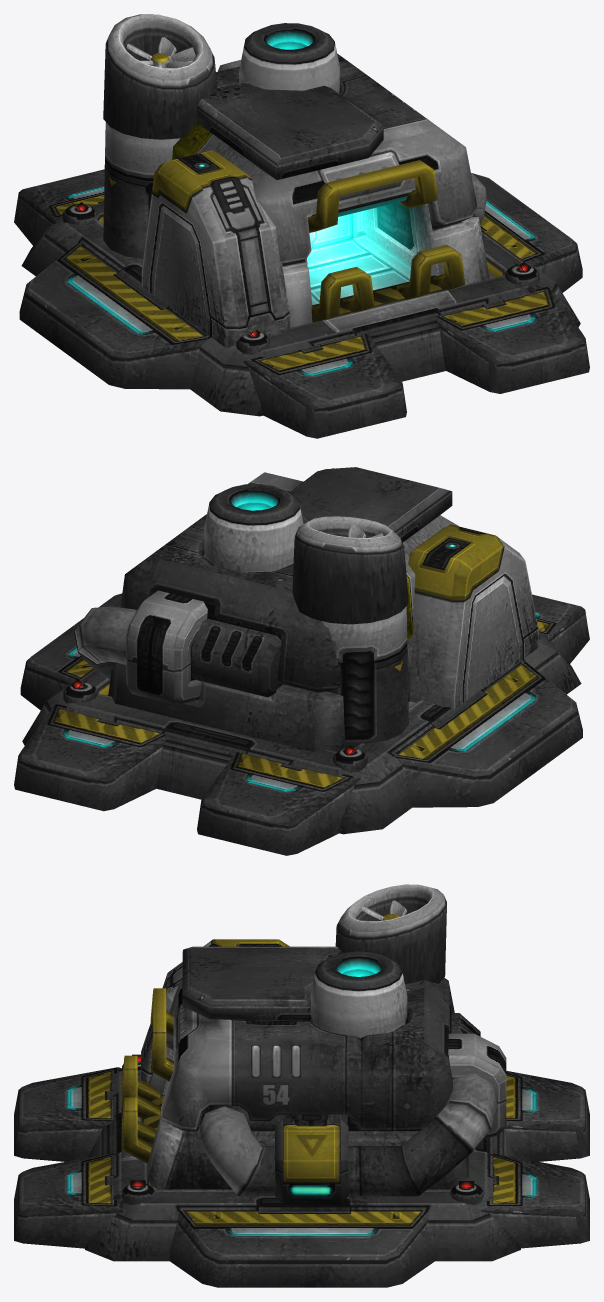
File: SupplyDepot_Umojan.glb
3 renders of one model, top to bottom at view 1: azimuth 30°, elevation 25°; view 2: azimuth 150°, elevation 25°; view 3: azimuth 270°, elevation 25°, orthographic. The views are drawn at different scales.
Parts seen in each view (by area): view 1: Mesh; view 2: Mesh; view 3: Mesh.
Part boxes in pixels (left/top/right/bottom): Mesh: left=14, top=14, right=589, bottom=438; Mesh: left=14, top=467, right=589, bottom=855; Mesh: left=14, top=884, right=589, bottom=1287.
Size of the model in its own units: 3.66 by 2.06 by 4.05.
Materials: 2 (2 with a texture image).
